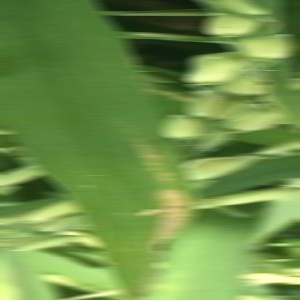Leaf_Blast: (90, 140, 193, 296)
